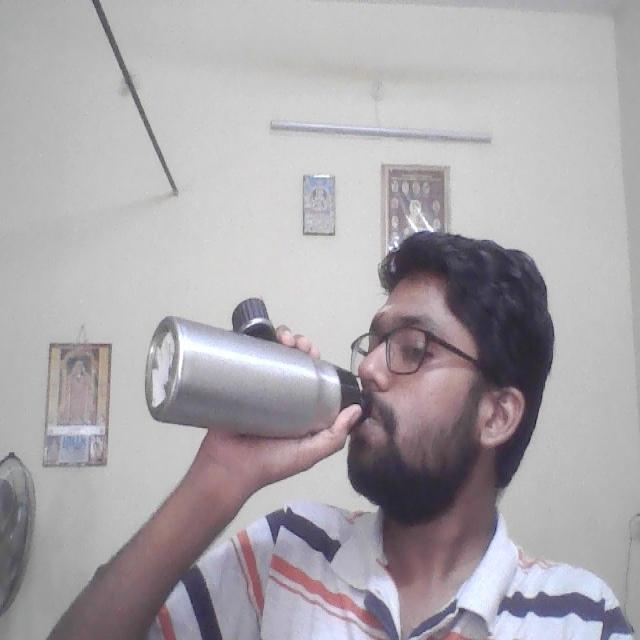Drinking: (144, 283, 365, 443)
